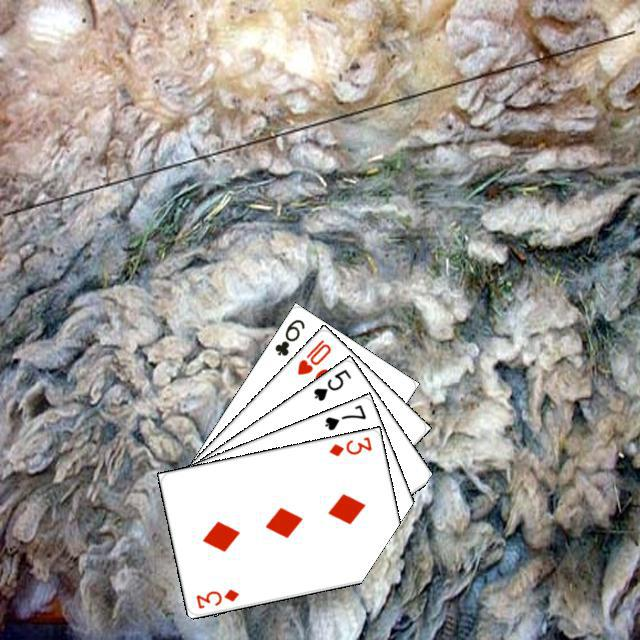10h: (292, 334, 333, 377)
3d: (324, 432, 373, 458), (191, 584, 240, 610)
5s: (309, 364, 353, 403)
6c: (270, 314, 307, 358)
7s: (320, 400, 368, 432)
